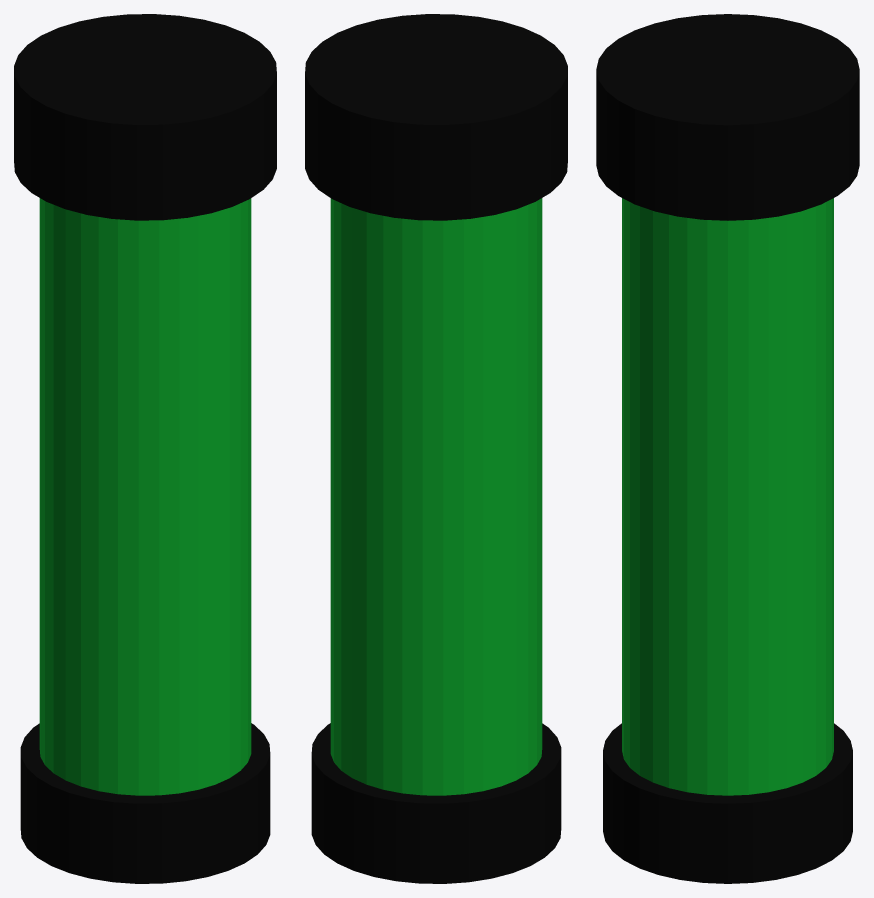
Rendered from glowstick.fbx.
3 views of the same model, side by side, from view 1: azimuth 30°, elevation 25°; view 2: azimuth 150°, elevation 25°; view 3: azimuth 270°, elevation 25° (orthographic).
Parts seen in each view (by area): view 1: Cylinder; view 2: Cylinder; view 3: Cylinder.
Boxes of the visible parts, x1,y1,x2,y2 form: Cylinder: (14, 14, 276, 883); Cylinder: (305, 14, 567, 883); Cylinder: (596, 14, 859, 883).
Bounding box in the file's own units: 60.46 × 193 × 60.46.
